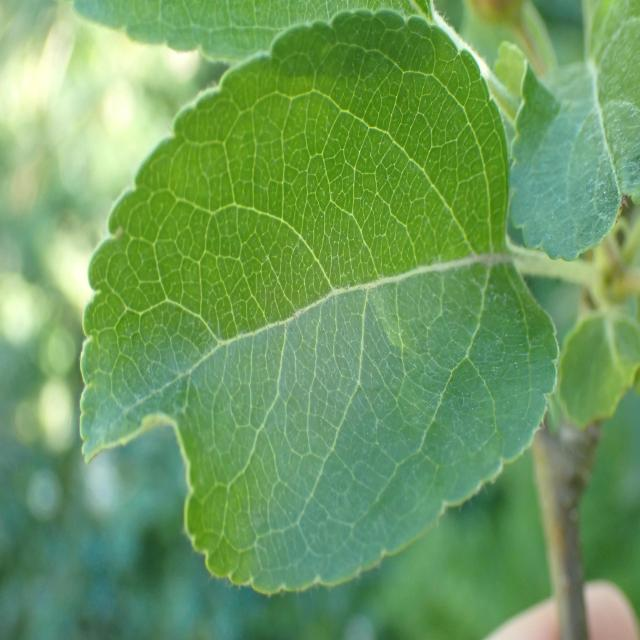healthy: (78, 2, 560, 596), (493, 1, 640, 260)
